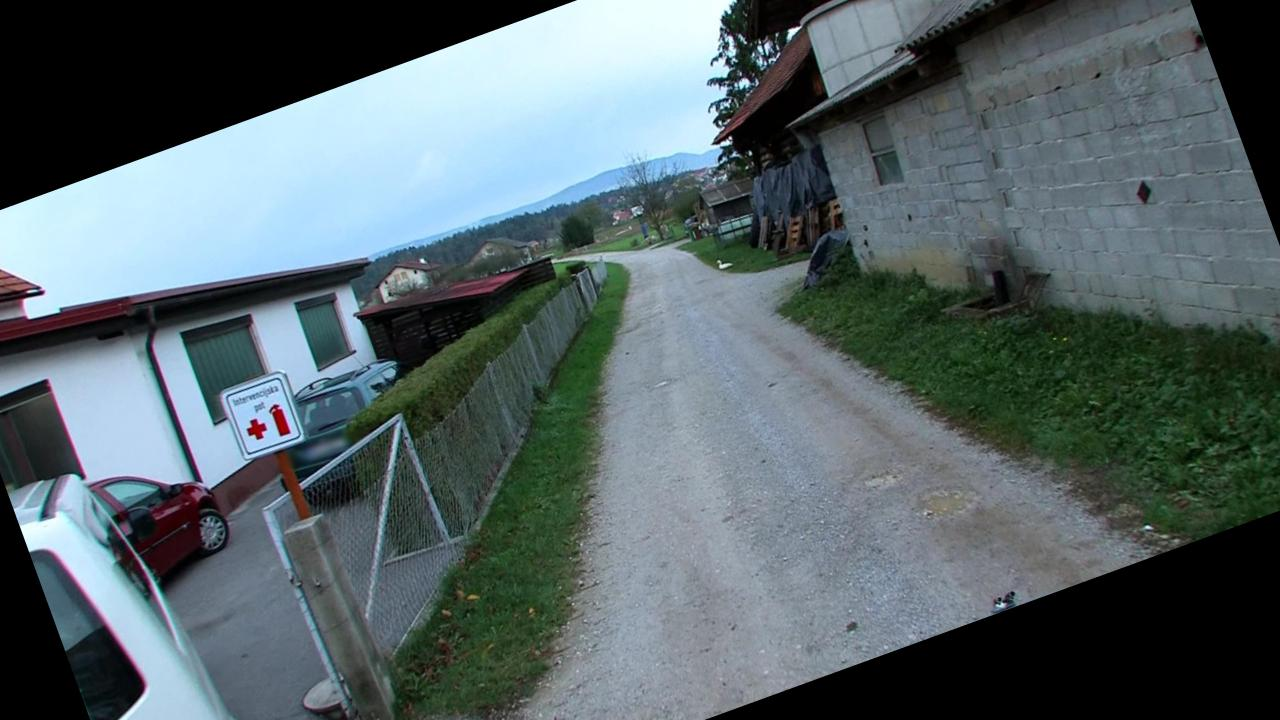Squared: (220, 369, 308, 461)
